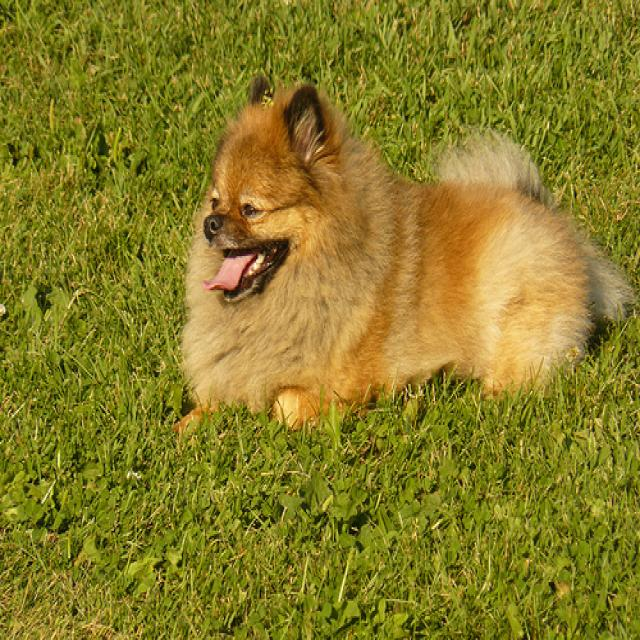dog-pomeranian: (163, 67, 637, 447)
